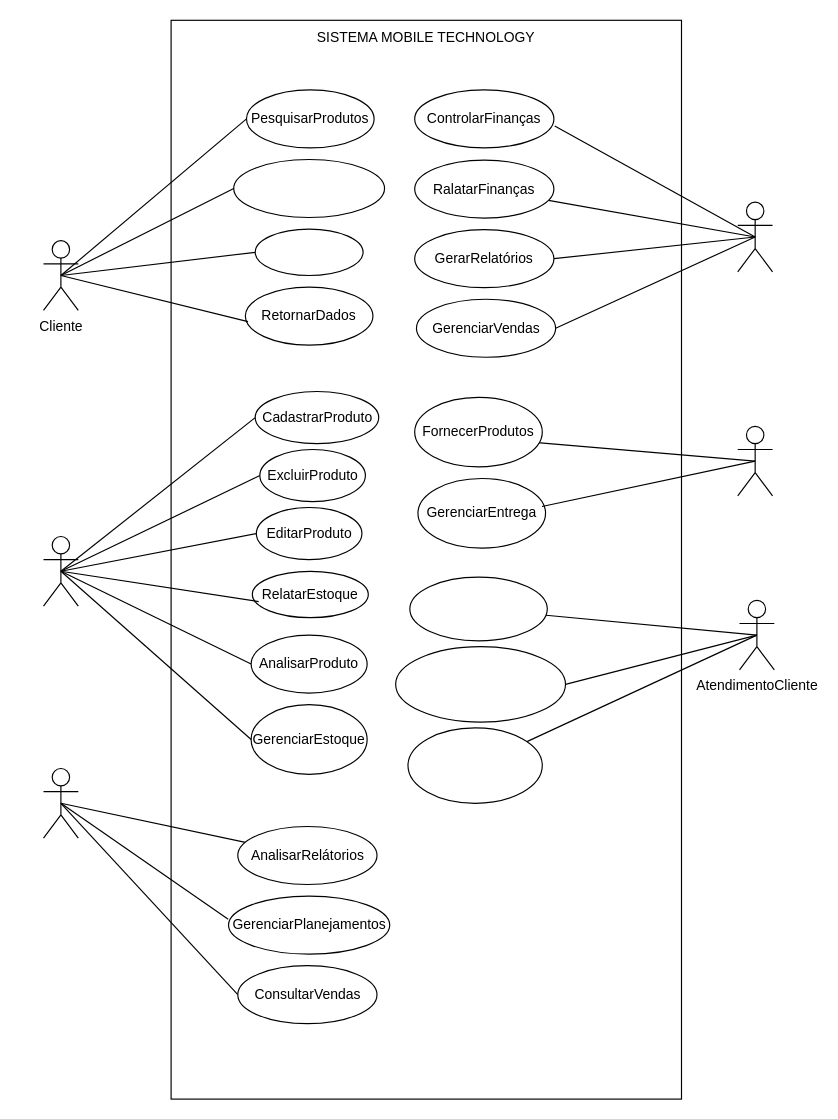
Image size: 838x1119. Some labels were removed from this diagram. Here are the shapes that lost their labels. From the top down, the centre of each, then its label:
the point at 309,187: AdicionarAoCarrinho
the point at 308,252: EfetuarCompra
the point at 755,236: Financeiro
the point at 755,460: Fornecedores
the point at 60,570: FuncEstoque
the point at 478,608: AcompanharPedidos
the point at 480,684: AcompanharReclamacoes
the point at 474,765: GerenciarProblemas
the point at 60,802: Gestores
